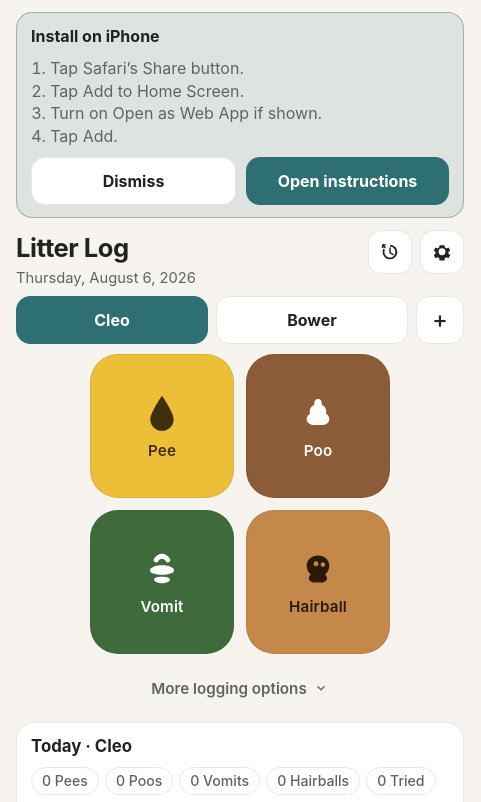
Test: final UI polish › does not show a success toast after failed persistence
Expected: the radio button labelled "Cleo" is shown, [16,296,208,344]
Click the button "Pee": (162, 426) [90,354,234,498]
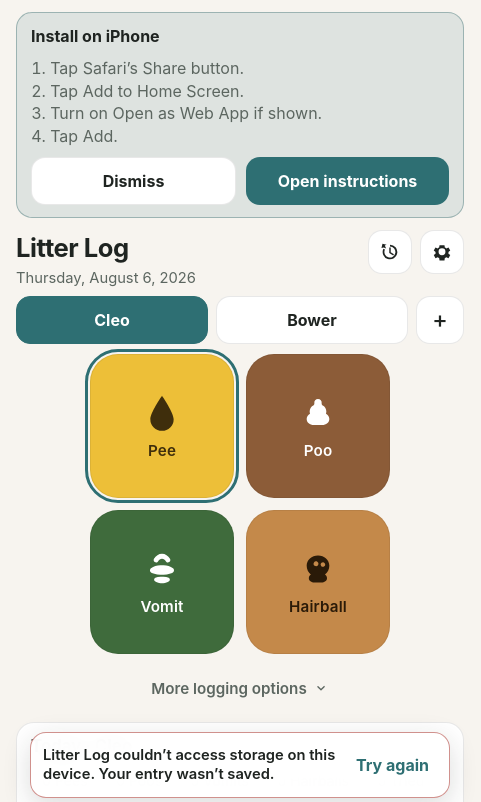
Expected: the element with test id "status-toast" does not show "Pee logged", [30,732,450,798]
Now the element with test id "status-toast" shows "couldn’t access storage", box [43,746,335,783]
